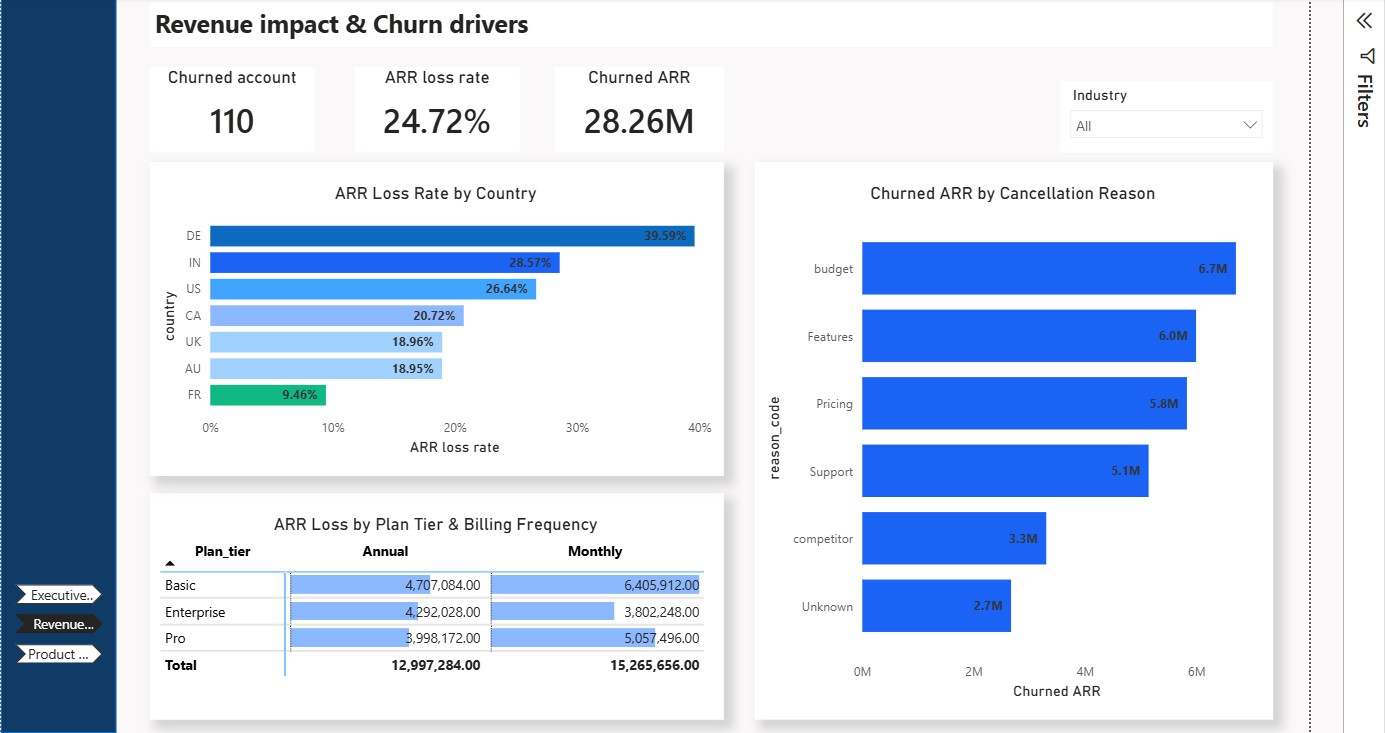

Layout of this report page (visuals, bound fields, positions):
{"tool":"powerbi","page":{"name":"Revenue impact & Churn drivers","canvas":[1280,720],"ordinal":1},"visuals":[{"type":"shape","box":[0,0,112.9,720],"z":0},{"type":"cardVisual","title":"Churned ARR","fields":{"Data":["_Measures.Churned ARR"]},"box":[541.4,68.6,165.7,82.9],"z":1000},{"type":"cardVisual","title":"ARR loss rate","fields":{"Data":["_Measures.ARR loss rate"]},"box":[345.7,68.6,161.4,82.9],"z":2000},{"type":"clusteredBarChart","title":"Churned ARR by Cancellation Reason","fields":{"Category":["churn_events.reason_code"],"Y":["_Measures.Churned ARR"]},"box":[737.1,161.4,507.1,545.7],"z":3000},{"type":"pivotTable","title":"ARR Loss by Plan Tier & Billing Frequency","fields":{"Rows":["accounts.plan_tier"],"Columns":["subscriptions.billing_frequency"],"Values":["_Measures.Churned ARR"]},"box":[145.7,485.7,561.4,221.4],"z":4000},{"type":"slicer","fields":{"Values":["accounts.industry"]},"box":[1035.7,81.4,208.6,70],"z":5000},{"type":"clusteredBarChart","title":"ARR Loss Rate by Country","fields":{"Y":["_Measures.ARR loss rate"],"Category":["accounts.country"]},"box":[145.7,161.4,561.4,307.1],"z":6000},{"type":"cardVisual","title":"Churned account","fields":{"Data":["_Measures.Churned Accounts"]},"box":[145.7,68.6,161.4,82.9],"z":7000},{"type":"pageNavigator","box":[13.5,574.7,86.8,78.3],"z":8000},{"type":"textbox","box":[145.7,4.3,1098.6,44.3],"z":9000}]}

Visuals, with their boxes on the page's 1280x720 design canvas (x1, y1, x2, y2). These are canvas units, not pixel positions in the 1385x733 screenshot, which may show the page scaled, cropped or inside an application window:
shape: box(0, 0, 113, 720)
"Churned ARR" cardVisual: box(541, 69, 707, 152)
"ARR loss rate" cardVisual: box(346, 69, 507, 152)
"Churned ARR by Cancellation Reason" clusteredBarChart: box(737, 161, 1244, 707)
"ARR Loss by Plan Tier & Billing Frequency" pivotTable: box(146, 486, 707, 707)
slicer - accounts.industry: box(1036, 81, 1244, 151)
"ARR Loss Rate by Country" clusteredBarChart: box(146, 161, 707, 468)
"Churned account" cardVisual: box(146, 69, 307, 152)
pageNavigator: box(14, 575, 100, 653)
textbox: box(146, 4, 1244, 49)
